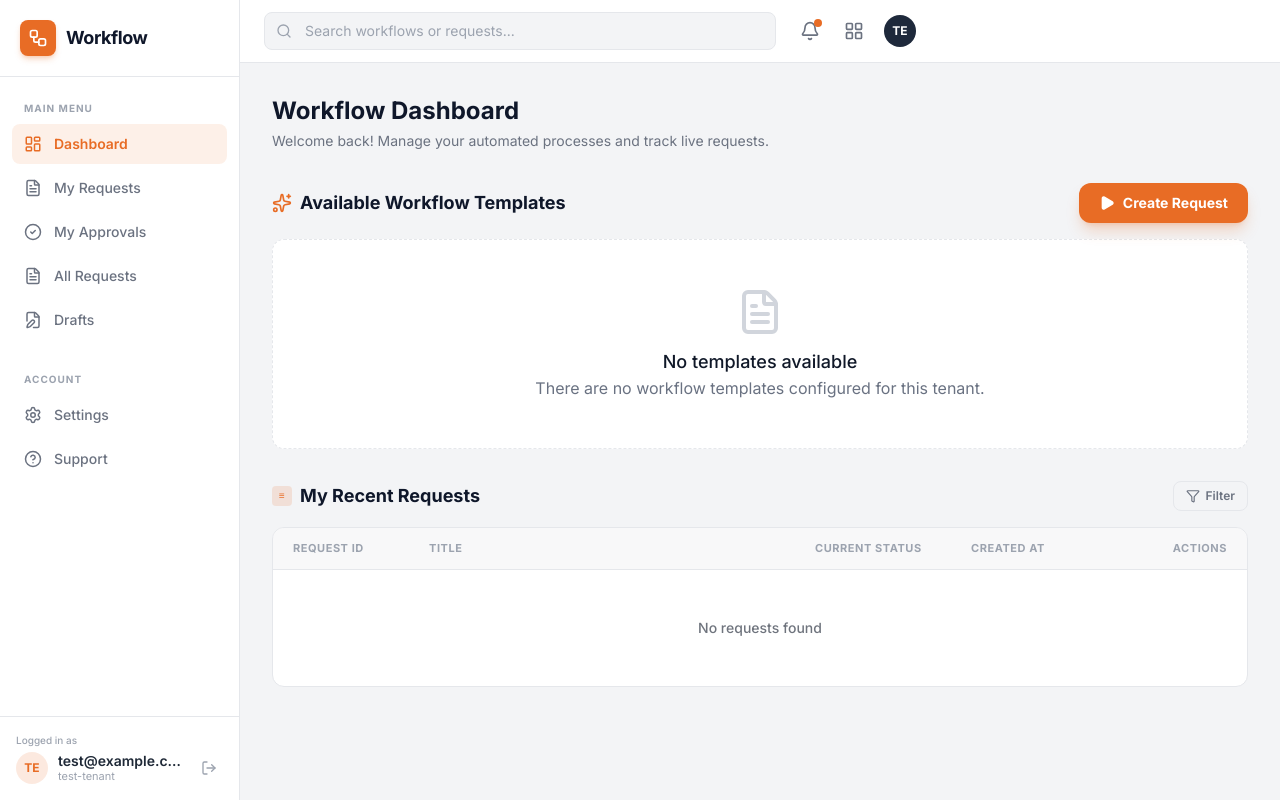
Test case: Routing Tests › should navigate to My Approvals when clicking the sidebar link
The width and height of the screenshot is (1280, 800).
Click the link "My Approvals": click(85, 232) [24,223,146,241]
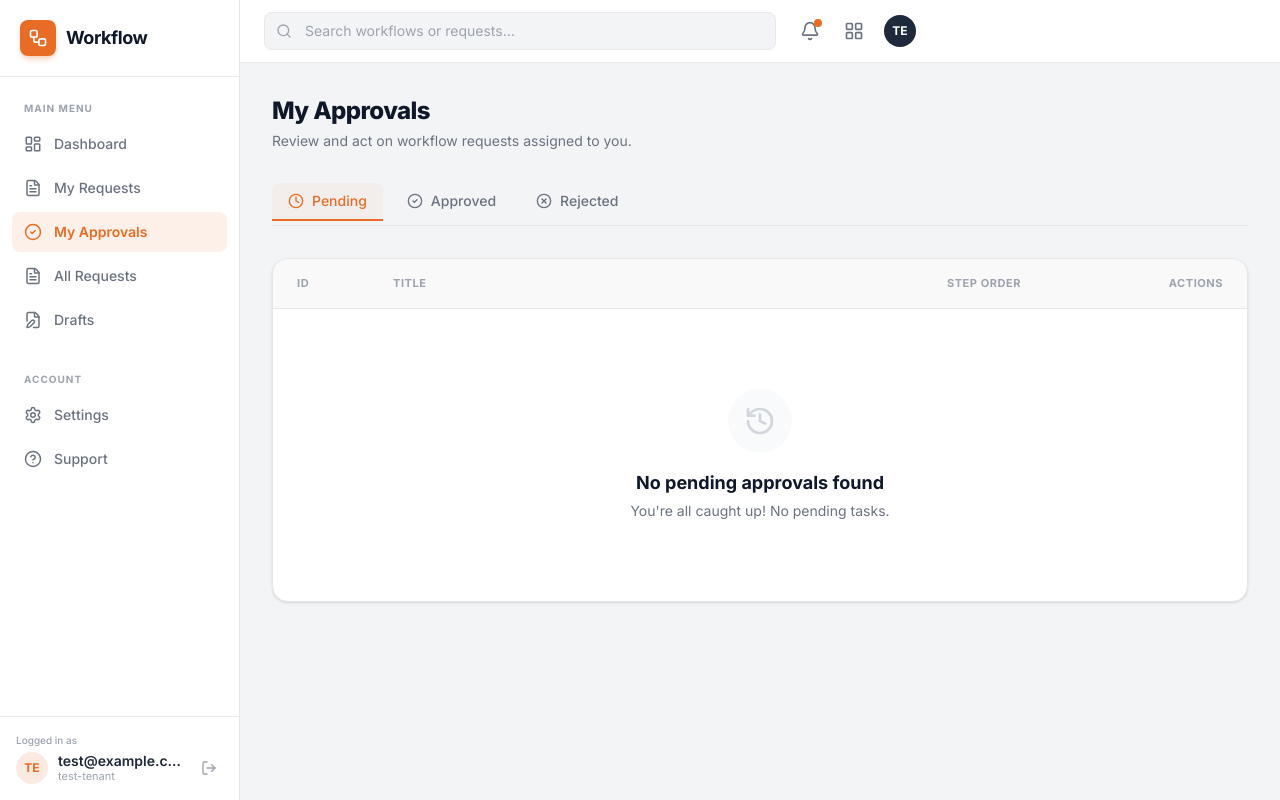
Expected: the text "Review and act on workflow requests assigned to you." is shown, [272,131,632,151]
